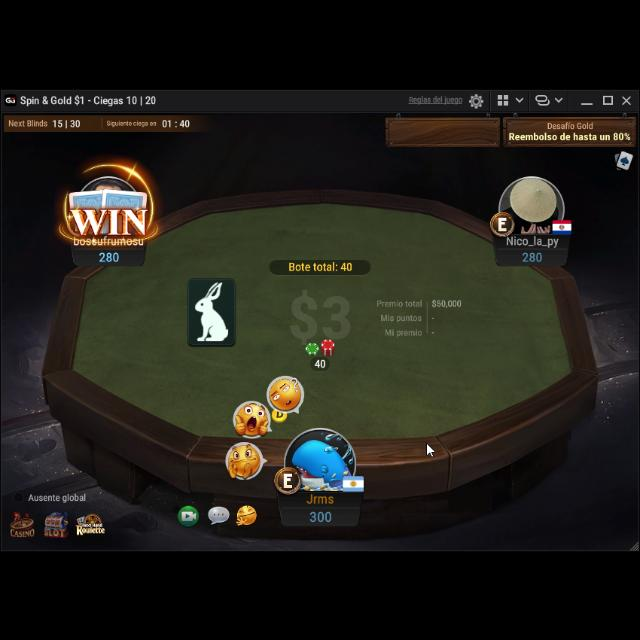bet_text: (313, 355, 327, 367)
card_back: (100, 182, 148, 215), (68, 185, 109, 217)
pot_text: (286, 258, 354, 270)
stack_text: (308, 504, 332, 520), (521, 247, 543, 261), (98, 246, 120, 260)
